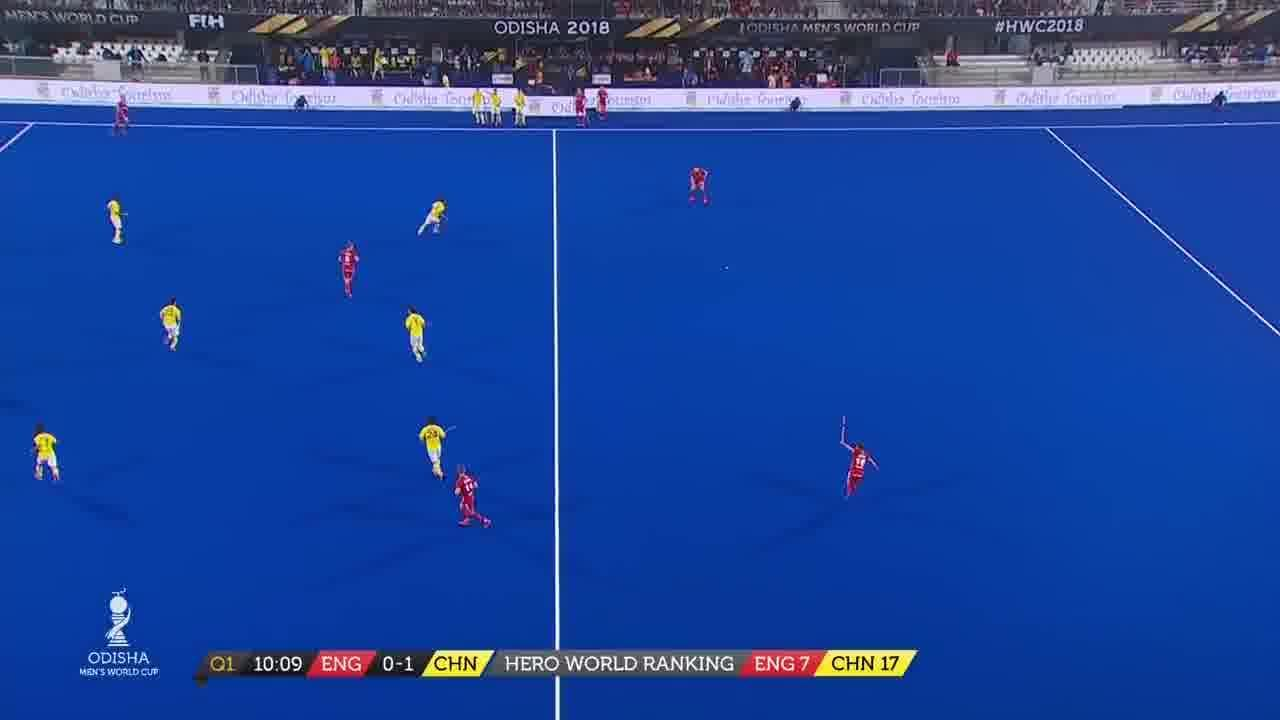ball: (714, 258, 737, 274)
